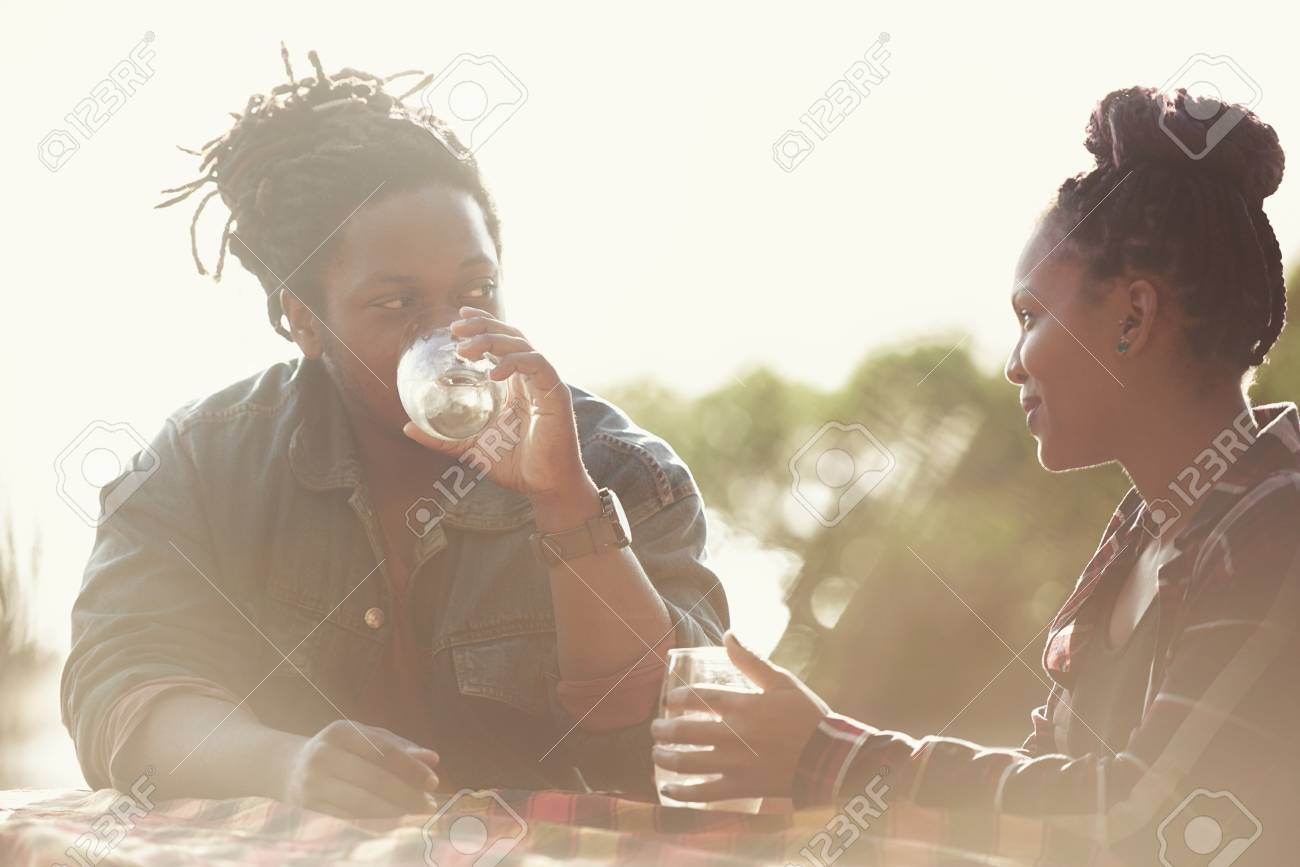drinking: (135, 63, 627, 578)
